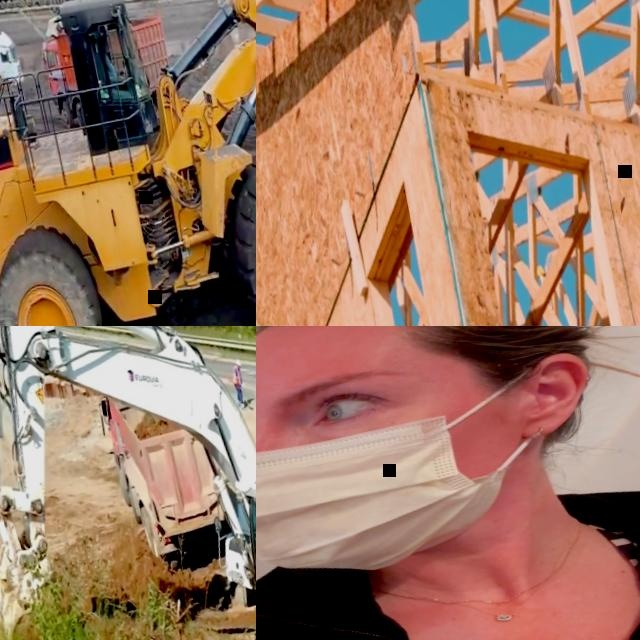Hardhat: (236, 358, 242, 366)
Mask: (256, 360, 567, 597)
NO-Hardhat: (256, 326, 572, 392), (100, 33, 109, 44)
NO-Mask: (104, 46, 112, 55)
NO-Safety Vest: (256, 494, 640, 640), (106, 56, 119, 84)
Person: (256, 326, 640, 640), (98, 29, 133, 99), (229, 358, 250, 410)
Safety Vest: (231, 365, 242, 387)
machinery: (0, 0, 256, 326), (0, 326, 256, 640), (96, 375, 236, 577), (32, 0, 184, 132), (0, 18, 27, 109)
